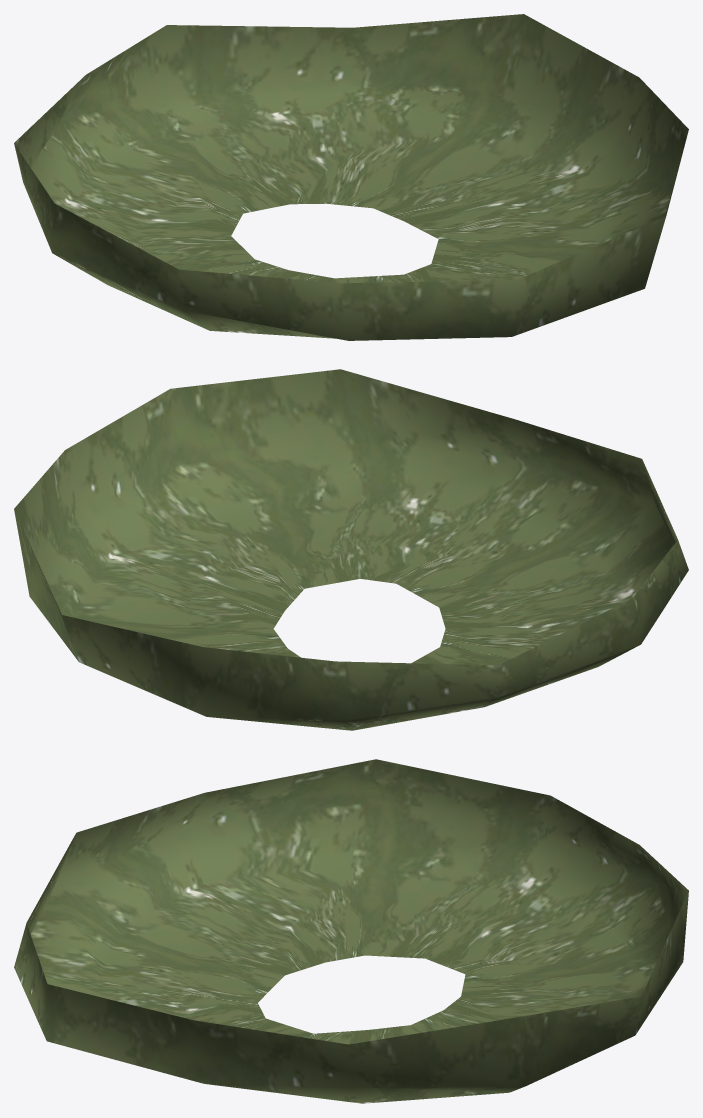
File: kulouwang_smoke.FBX
3 views of the same model, one above another, from view 1: azimuth 30°, elevation 25°; view 2: azimuth 150°, elevation 25°; view 3: azimuth 270°, elevation 25° (orthographic).
Parts seen in each view (by area): view 1: kulouwang_smoke; view 2: kulouwang_smoke; view 3: kulouwang_smoke.
Part boxes in pixels (<box>): kulouwang_smoke: <box>14,14,688,340</box>; kulouwang_smoke: <box>14,369,688,730</box>; kulouwang_smoke: <box>14,759,688,1103</box>.
Bounding box in the file's own units: 125 × 125 × 22.19.
Materials: 1 (1 with a texture image).
